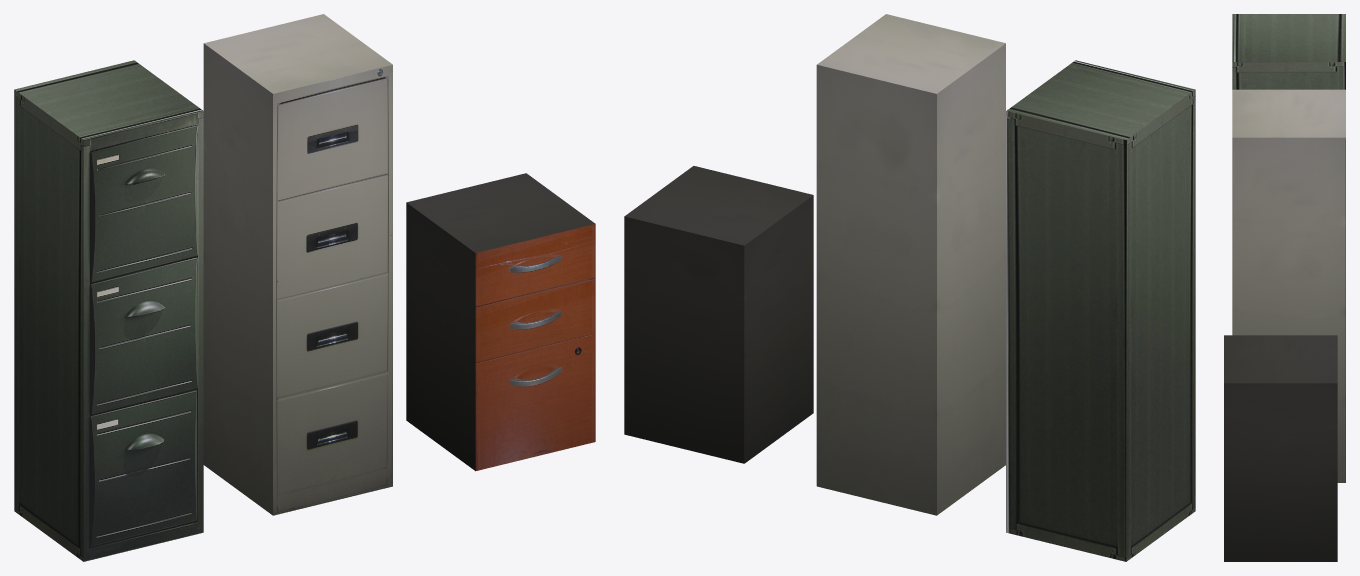
The model's file is Files_2012.FBX.
The picture shows the model from 3 angles, left to right: view 1: azimuth 30°, elevation 25°; view 2: azimuth 150°, elevation 25°; view 3: azimuth 270°, elevation 25°; orthographic projection. The views are drawn at different scales.
Visible parts, largest first — view 1: File1, File2, File3; view 2: File2, File1, File3; view 3: File2, File3, File1.
Part boxes in pixels (x1=…): File1: x1=14, y1=60, x2=203, y2=561; File2: x1=203, y1=14, x2=392, y2=515; File3: x1=406, y1=173, x2=595, y2=471; File2: x1=816, y1=14, x2=1005, y2=515; File1: x1=1006, y1=60, x2=1195, y2=561; File3: x1=624, y1=166, x2=813, y2=463; File2: x1=1232, y1=89, x2=1345, y2=482; File3: x1=1224, y1=335, x2=1337, y2=561; File1: x1=1232, y1=14, x2=1345, y2=89.
Bounding box in the file's own units: 169 × 134 × 42.92.
